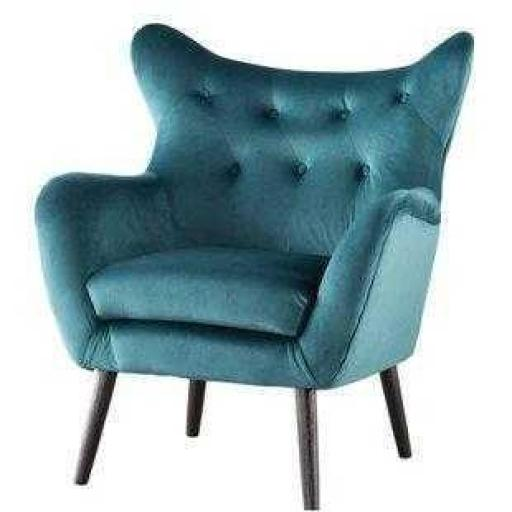chair: (32, 16, 483, 501)
